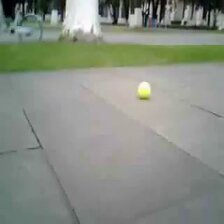tennis: (137, 81, 151, 98)
